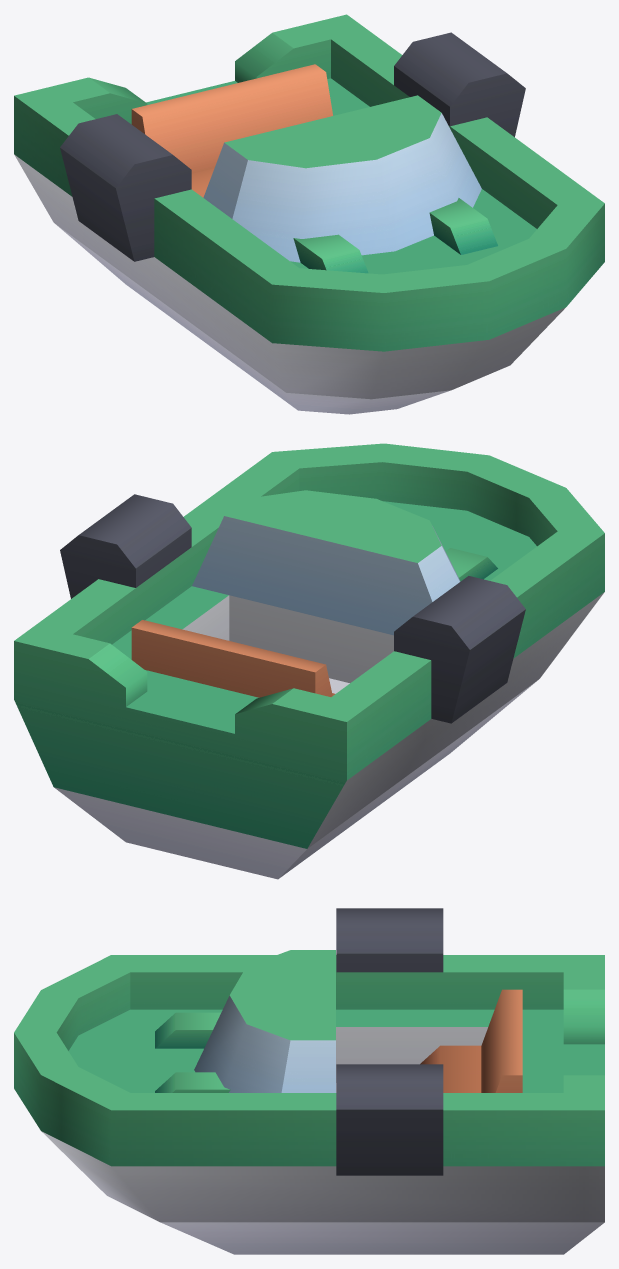
Rendered from boat-speed-f-transformed-transformed.glb.
3 views of the same model, one above another, from view 1: azimuth 30°, elevation 25°; view 2: azimuth 150°, elevation 25°; view 3: azimuth 270°, elevation 25° (orthographic). The views are drawn at different scales.
Parts seen in each view (by area): view 1: boat-speed-f; view 2: boat-speed-f; view 3: boat-speed-f.
Boxes of the visible parts, x1=… form: boat-speed-f: x1=14, y1=14, x2=604, y2=414; boat-speed-f: x1=14, y1=443, x2=604, y2=879; boat-speed-f: x1=14, y1=908, x2=604, y2=1254.
Bounding box in the file's own units: 2.2 × 1.2 × 2.87.
Materials: 1 (1 with a texture image).
